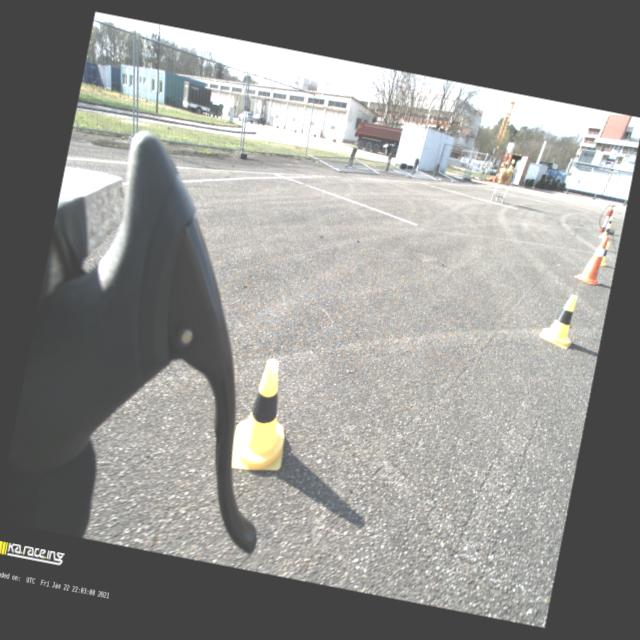large_orange_cone: (573, 230, 609, 286)
yellow_cone: (228, 354, 300, 476), (538, 290, 580, 349), (601, 242, 610, 266), (606, 216, 613, 229), (502, 160, 510, 171), (509, 160, 516, 172)
